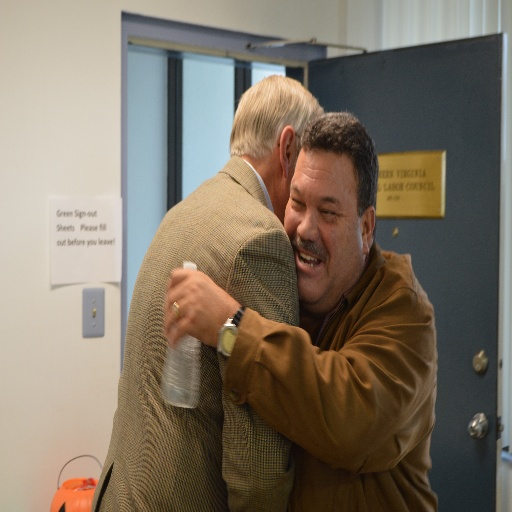hand: (159, 261, 249, 356)
